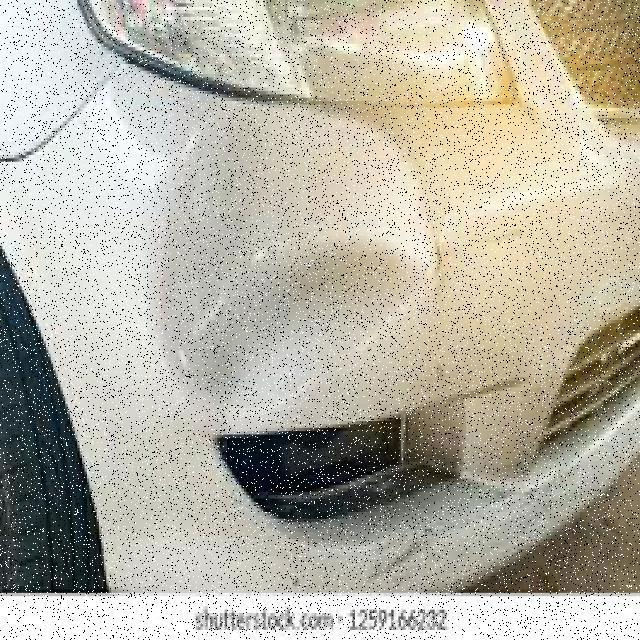front-bumper-dent: (5, 105, 447, 590), (7, 384, 626, 603)
